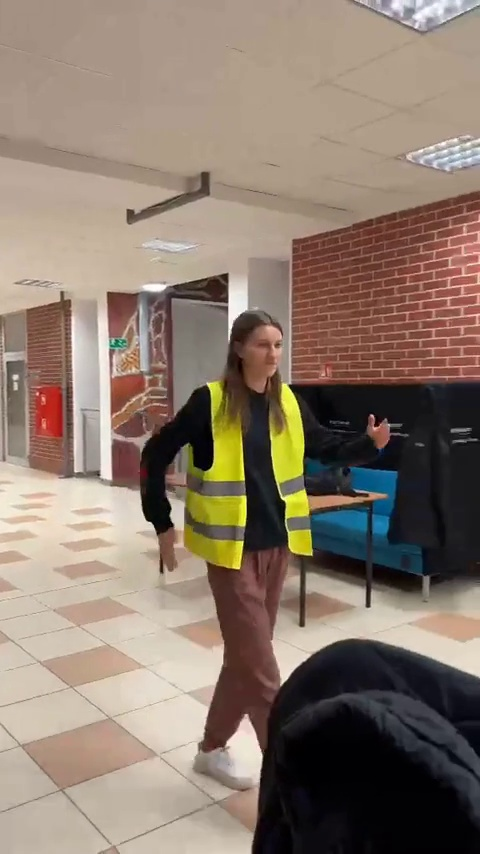vest: (133, 311, 393, 806)
